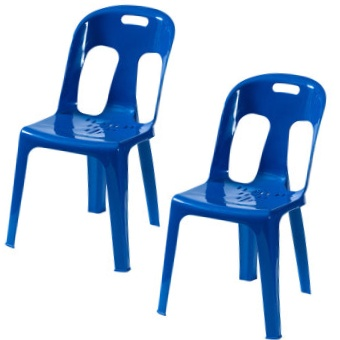plastic: (59, 110, 151, 157)
